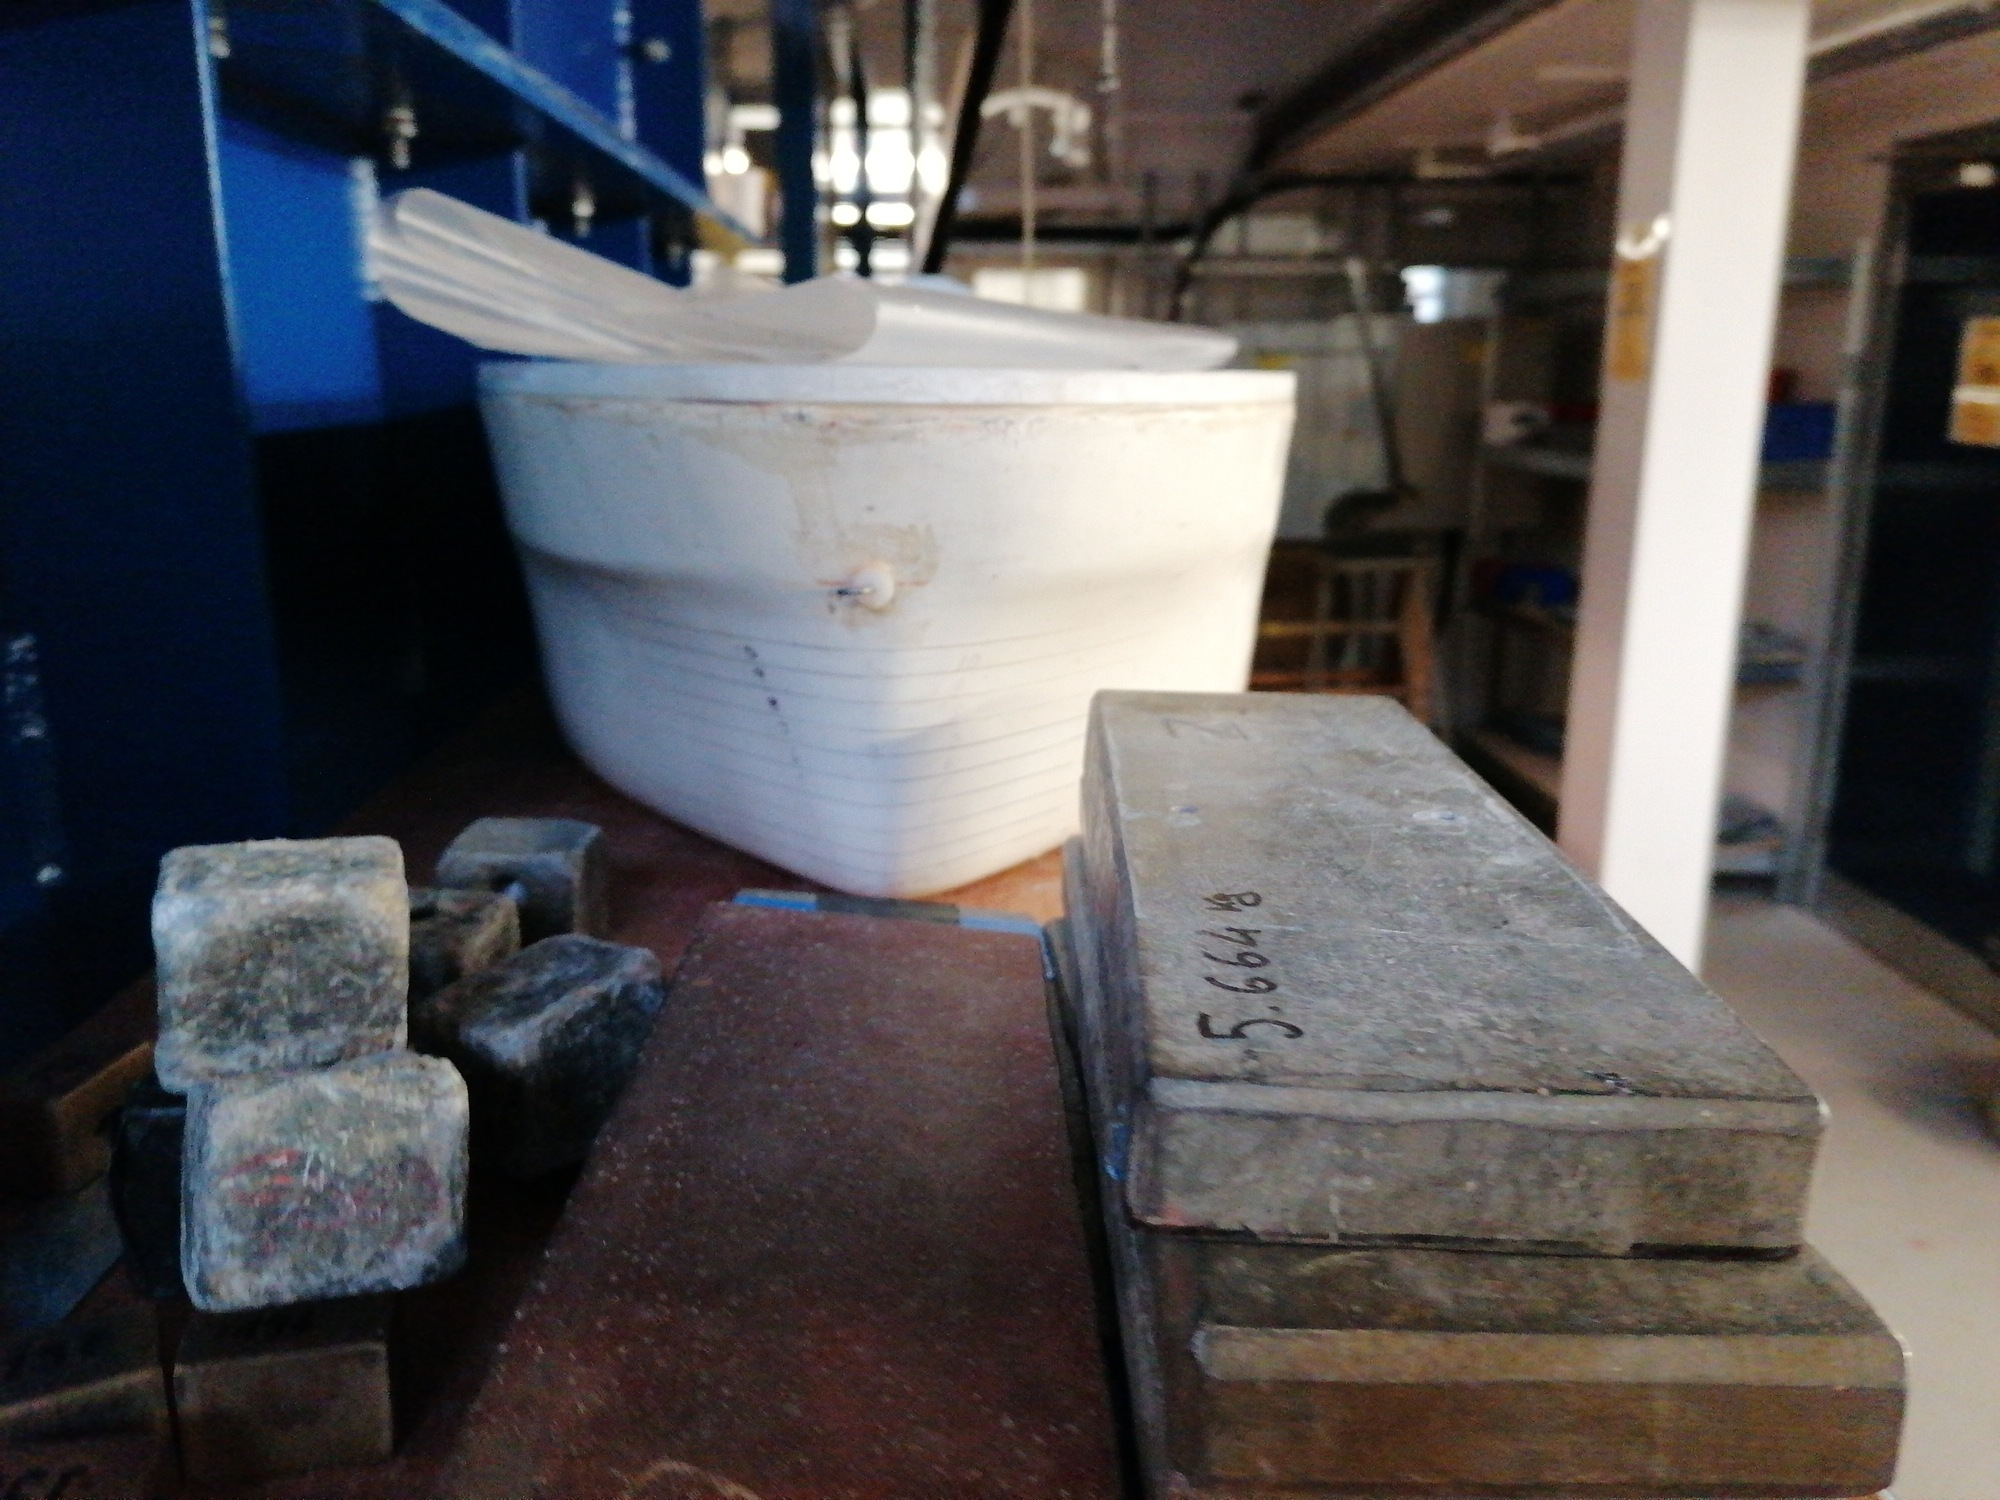lead-block: (1054, 830, 1910, 1495), (1080, 685, 1830, 1262), (172, 1043, 476, 1314), (145, 834, 419, 1090), (417, 930, 669, 1171), (169, 1317, 398, 1487), (428, 810, 609, 978), (373, 871, 520, 1038)
